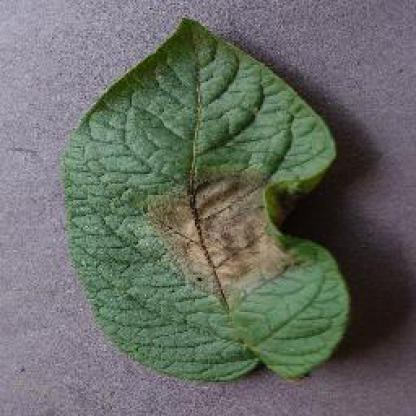bad leaf: (54, 13, 364, 392)
